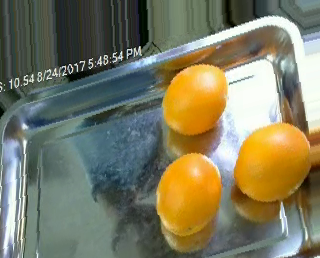Orange: (234, 122, 313, 202), (155, 152, 223, 236), (162, 62, 229, 136)
